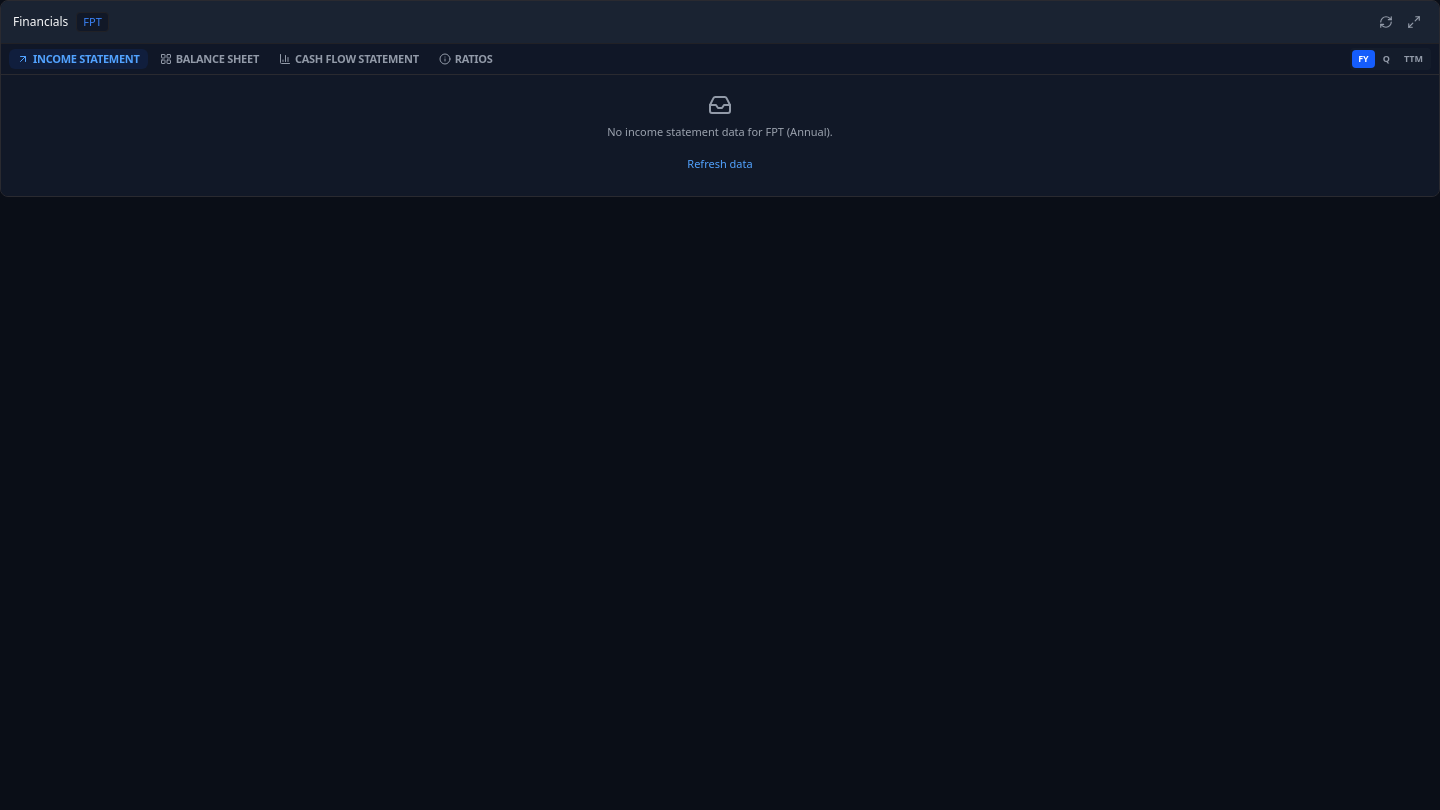
Scenario: FinancialsWidget › renders absent and zero-valued ratios as an empty cell, never 0.00
Click the button "Ratios": x=466, y=59 [431, 48, 501, 69]
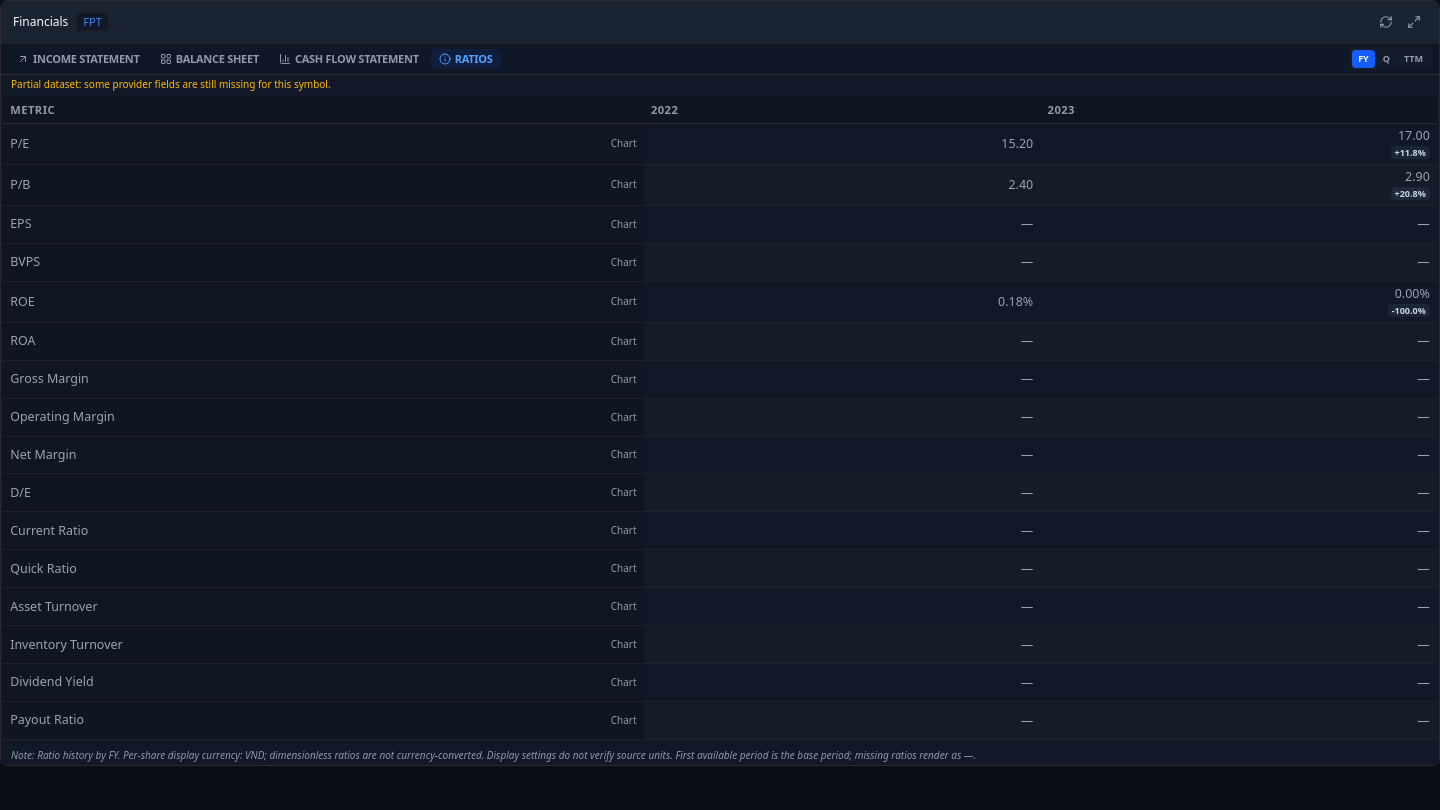
Expected: the text "P/E Chart 15.20 17.00 +11.8%" is shown, [3, 124, 1437, 164]
